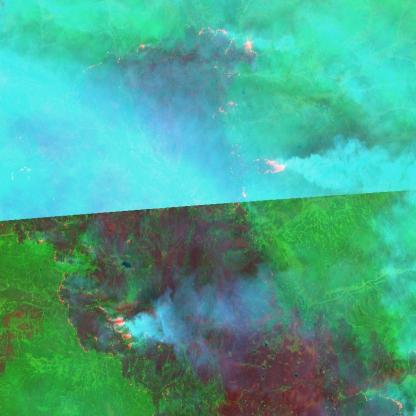fire: (75, 22, 268, 79), (52, 267, 145, 363), (245, 148, 295, 186), (209, 86, 240, 124), (227, 187, 252, 217)
